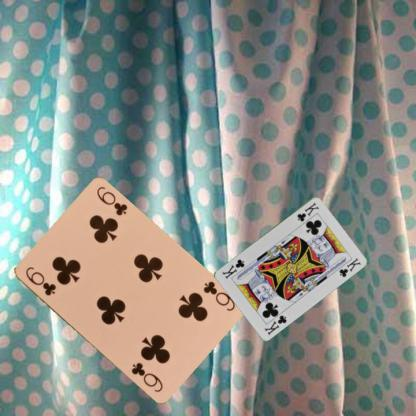6c: (200, 278, 237, 312), (23, 264, 57, 297)
Kc: (262, 312, 288, 336), (295, 199, 320, 222)
